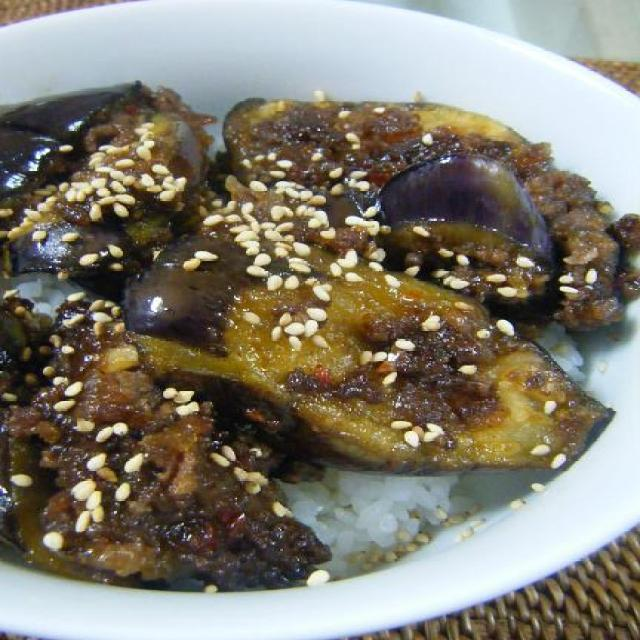鸡蛋料理: (0, 51, 640, 476)
